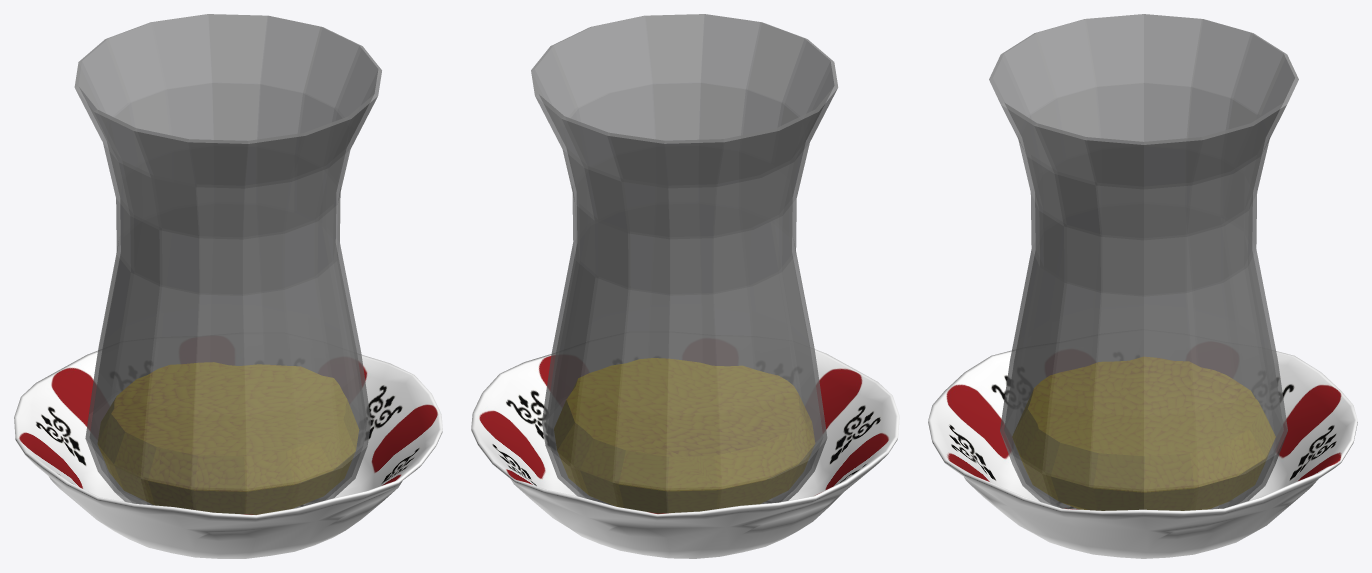
Rendered from Oralets(bananaGranule).fbx.
3 views of the same model, side by side, from view 1: azimuth 30°, elevation 25°; view 2: azimuth 150°, elevation 25°; view 3: azimuth 270°, elevation 25° (orthographic).
Visible parts, largest first — view 1: TeaGlass, BananaGranule, TeaGlassCoater; view 2: TeaGlass, BananaGranule, TeaGlassCoater; view 3: TeaGlass, BananaGranule, TeaGlassCoater.
Part boxes in pixels (bbox=[...]): TeaGlass: bbox=[74, 14, 381, 514]; BananaGranule: bbox=[98, 362, 358, 514]; TeaGlassCoater: bbox=[14, 349, 442, 558]; TeaGlass: bbox=[531, 14, 838, 513]; BananaGranule: bbox=[554, 358, 814, 513]; TeaGlassCoater: bbox=[471, 348, 899, 558]; TeaGlass: bbox=[989, 14, 1298, 510]; BananaGranule: bbox=[1012, 357, 1275, 510]; TeaGlassCoater: bbox=[928, 350, 1357, 558].
Bounding box in the file's own units: 51.36 × 56.79 × 51.36.
3 materials, 2 textured.
